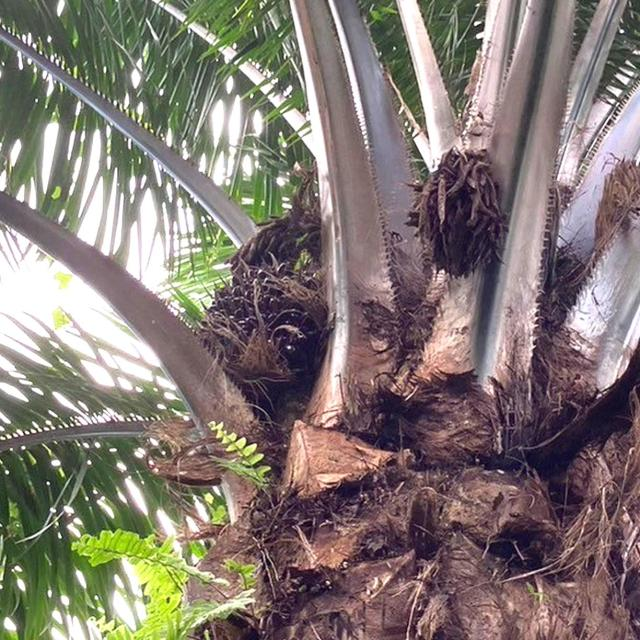ripe: (206, 265, 327, 394)
